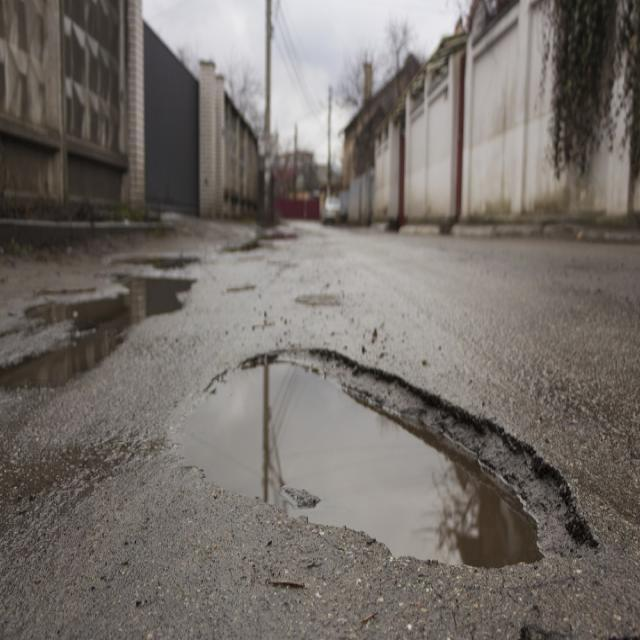Pothole: (175, 350, 596, 568)
